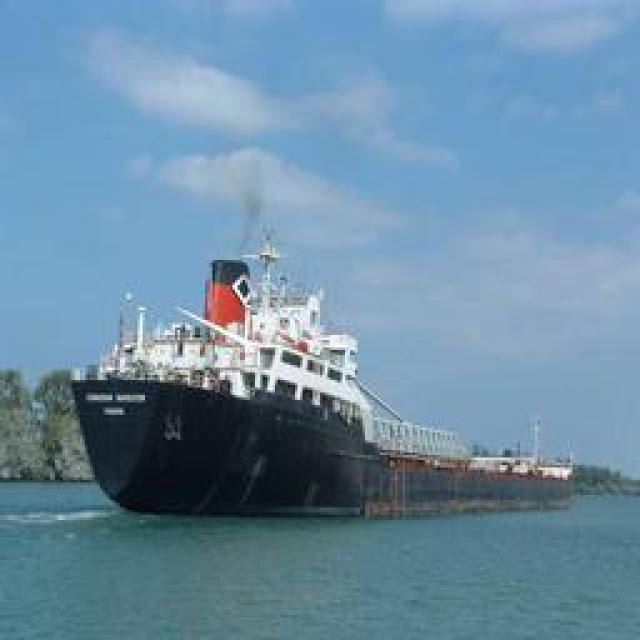Ship: (75, 220, 463, 518)
